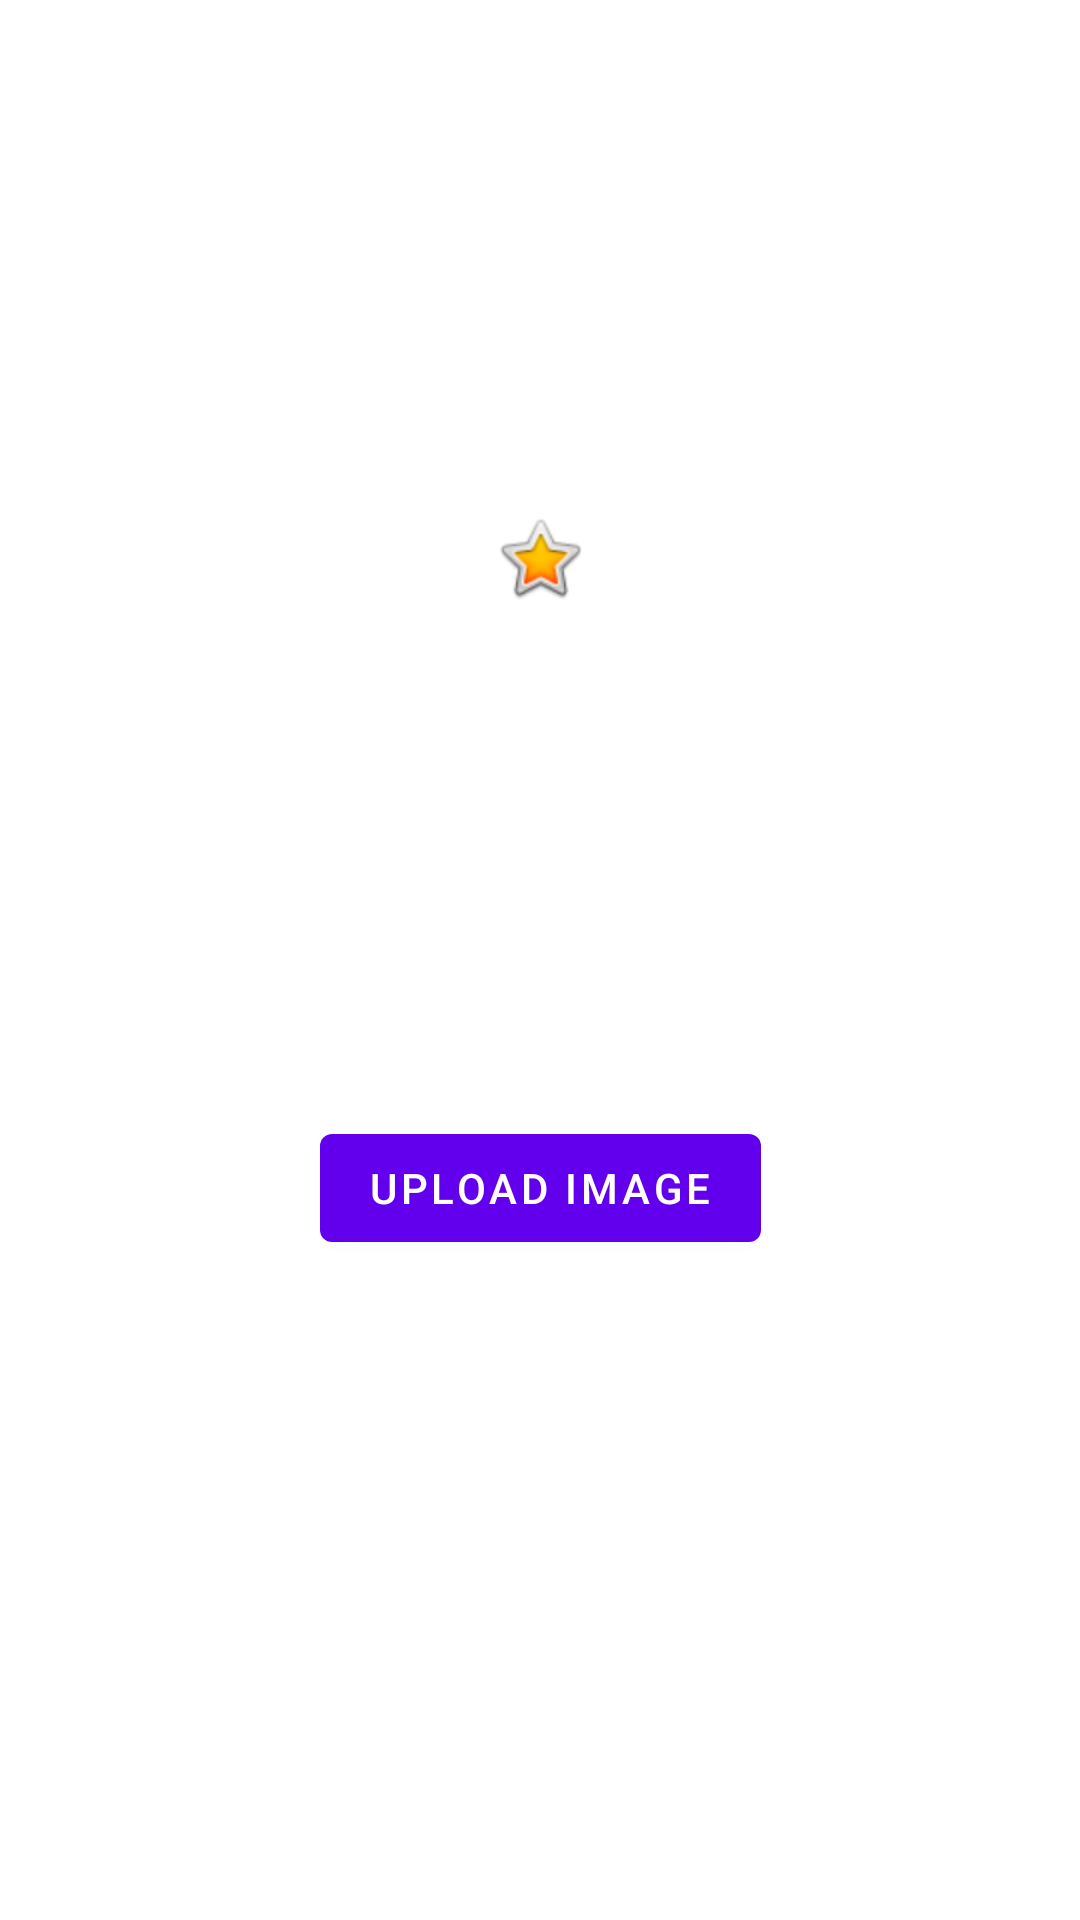

Icon click points for this 1080px×1920px phone screenshot, format [x,y]:
star on: [541,559]
